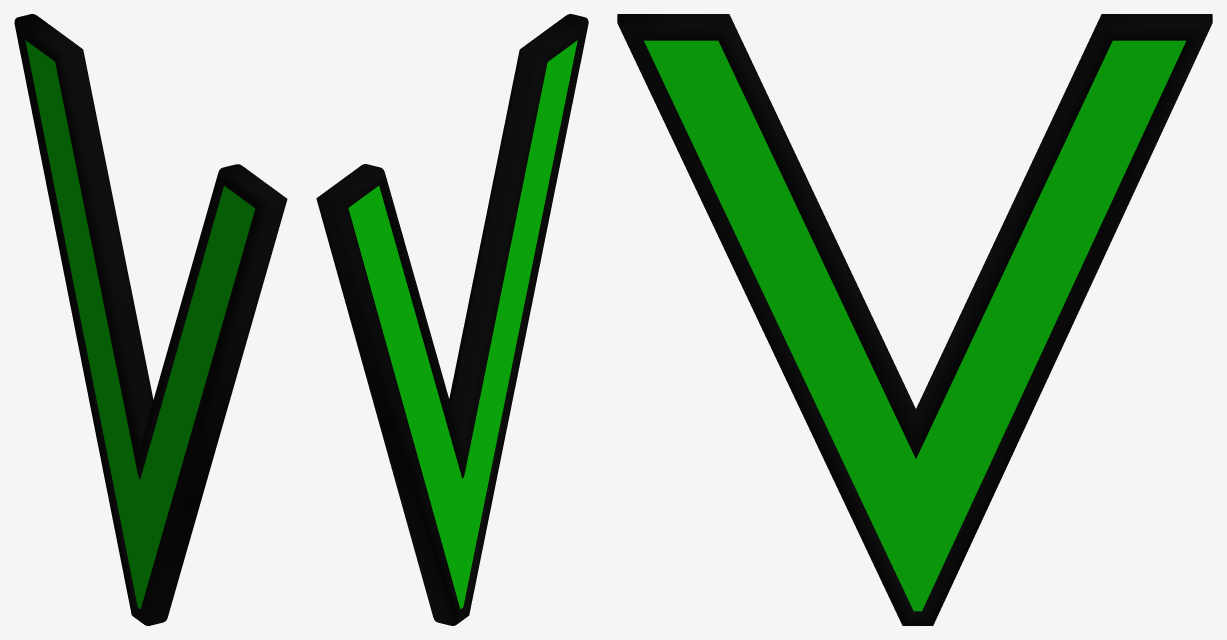
Rendered from vLetter.fbx.
The picture shows the model from 3 angles, left to right: view 1: azimuth 30°, elevation 25°; view 2: azimuth 150°, elevation 25°; view 3: azimuth 270°, elevation 25°; orthographic projection. The views are drawn at different scales.
Visible parts, largest first — view 1: V; view 2: V; view 3: V.
Boxes of the visible parts, x1=… form: V: x1=14, y1=14, x2=287, y2=625; V: x1=316, y1=14, x2=588, y2=625; V: x1=617, y1=14, x2=1212, y2=625.
Bounding box in the file's own units: 0.08 × 1.42 × 1.27.
